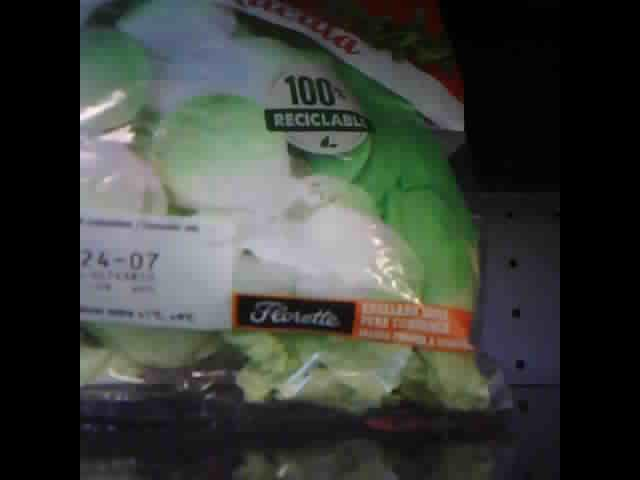florette: (82, 2, 517, 428)
